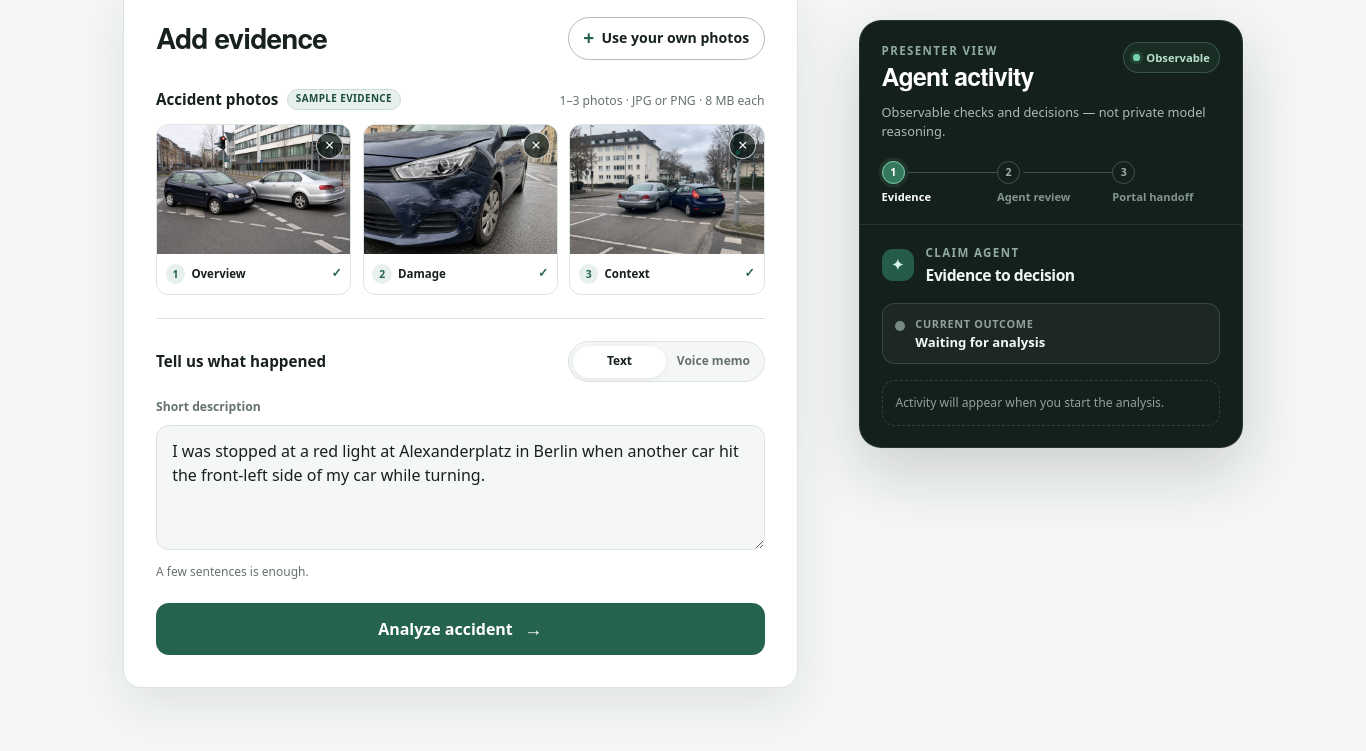
Test: ClaimExperience › shows validated observable checks in presenter view
The width and height of the screenshot is (1366, 751).
(page scrolled)
Expected: the heading "Agent activity" is shown, [882,64,1034,91]
Expected: the text "Observable checks and decisions — not private model reasoning." is shown, [882,103,1220,141]
Click the button "Analyze accident →" at (460, 629), box [156,603,764,655]
(page scrolled)
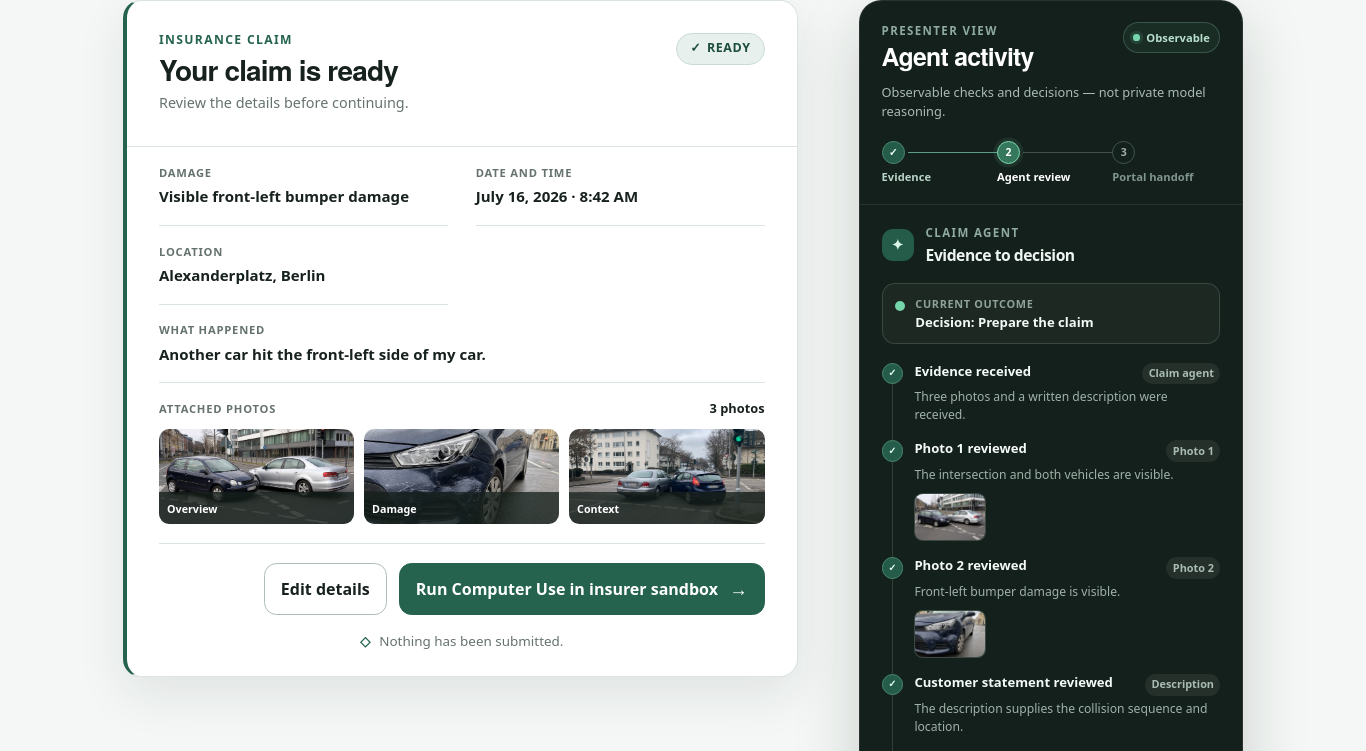
Expected: the text "Photo 1 reviewed" is shown, [914,440,1027,458]
